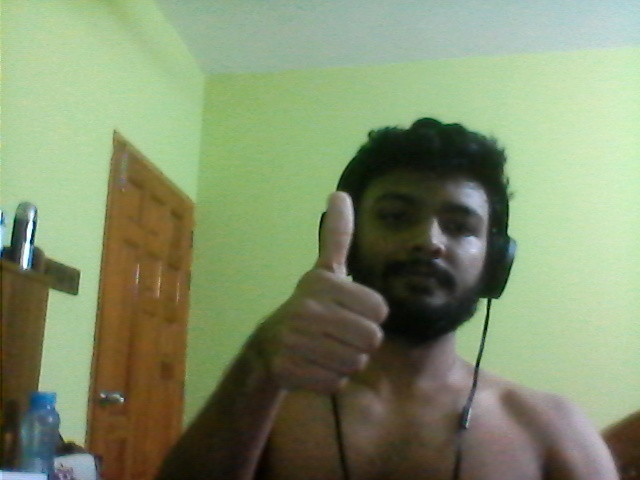Yes: (269, 188, 391, 411)
